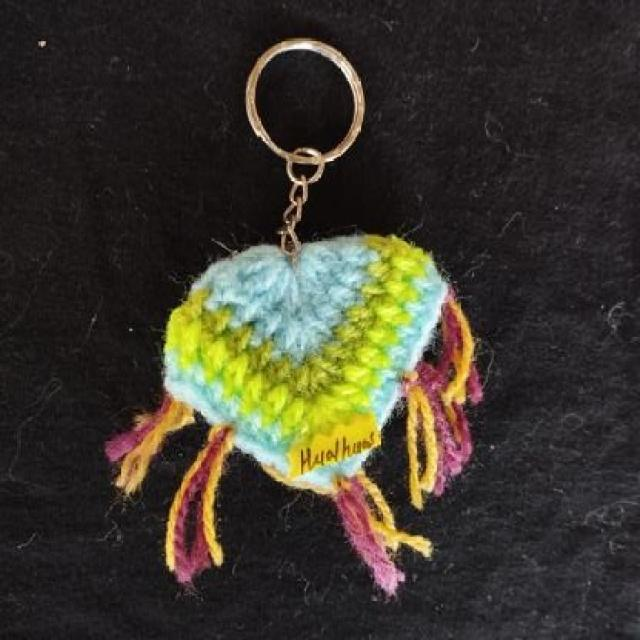Llavero: (104, 230, 484, 602)
